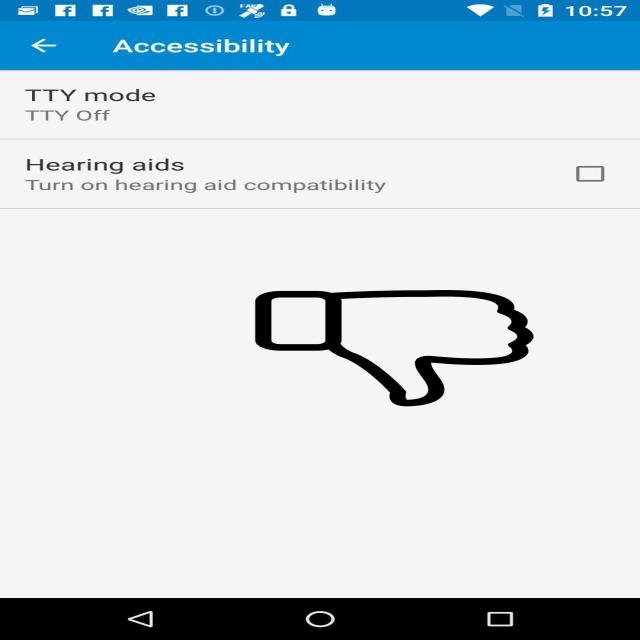obstruction: (252, 290, 538, 406)
